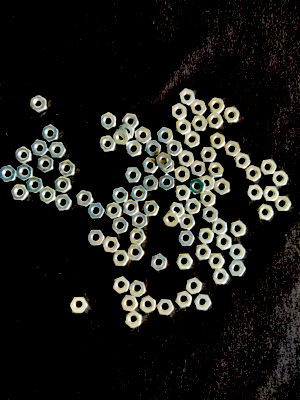nut: (37, 155, 55, 174), (10, 184, 30, 201), (121, 295, 139, 313), (26, 176, 44, 194), (54, 176, 72, 194), (58, 160, 76, 178), (30, 95, 48, 113), (69, 297, 88, 314), (42, 124, 59, 143), (194, 294, 212, 311), (129, 280, 146, 298), (113, 276, 130, 294), (102, 236, 120, 253), (105, 202, 122, 220), (76, 190, 94, 207), (16, 164, 34, 181), (31, 140, 49, 157), (49, 142, 67, 159), (234, 153, 252, 170), (178, 150, 195, 168), (166, 139, 183, 157), (184, 131, 201, 149), (157, 127, 174, 145), (135, 127, 152, 145), (99, 135, 116, 153), (113, 129, 131, 146), (119, 122, 136, 140), (179, 88, 196, 106), (101, 112, 117, 131), (157, 299, 174, 316), (176, 291, 193, 308), (186, 278, 203, 295), (112, 217, 129, 234), (15, 147, 32, 164), (131, 212, 148, 229), (112, 187, 129, 204), (131, 185, 148, 202), (142, 175, 159, 192), (174, 185, 191, 202), (190, 178, 207, 195), (224, 140, 241, 157), (245, 165, 262, 182), (142, 157, 159, 174), (145, 140, 162, 157), (223, 107, 240, 124), (190, 99, 207, 116), (126, 311, 142, 329), (140, 296, 156, 314), (87, 230, 105, 246), (127, 245, 145, 261), (211, 269, 229, 285), (228, 261, 246, 277), (128, 229, 146, 245), (87, 203, 105, 219), (54, 195, 72, 211), (40, 186, 56, 204), (1, 165, 17, 183), (212, 218, 228, 236), (163, 211, 181, 227), (202, 206, 218, 224), (210, 132, 226, 150), (274, 196, 292, 212), (191, 160, 207, 178), (156, 152, 172, 170), (176, 118, 192, 136), (171, 103, 187, 121), (112, 250, 129, 266), (151, 254, 167, 271), (176, 254, 193, 270), (208, 253, 225, 269), (195, 245, 212, 261), (229, 244, 246, 260), (216, 234, 232, 251), (178, 231, 195, 247), (198, 228, 215, 244), (230, 221, 247, 237), (123, 200, 139, 217), (143, 201, 160, 217), (169, 202, 186, 218), (185, 198, 201, 215), (159, 174, 175, 191), (215, 179, 231, 196), (207, 163, 224, 179), (200, 147, 217, 163), (260, 160, 277, 176), (272, 171, 289, 187), (247, 185, 264, 201), (263, 186, 280, 202), (258, 204, 274, 221), (126, 140, 142, 157), (192, 116, 209, 132), (207, 113, 224, 129), (208, 98, 225, 114), (180, 214, 196, 230), (200, 191, 216, 207), (199, 175, 215, 191), (125, 168, 142, 183), (175, 166, 190, 183), (122, 114, 139, 129), (159, 159, 175, 174)
